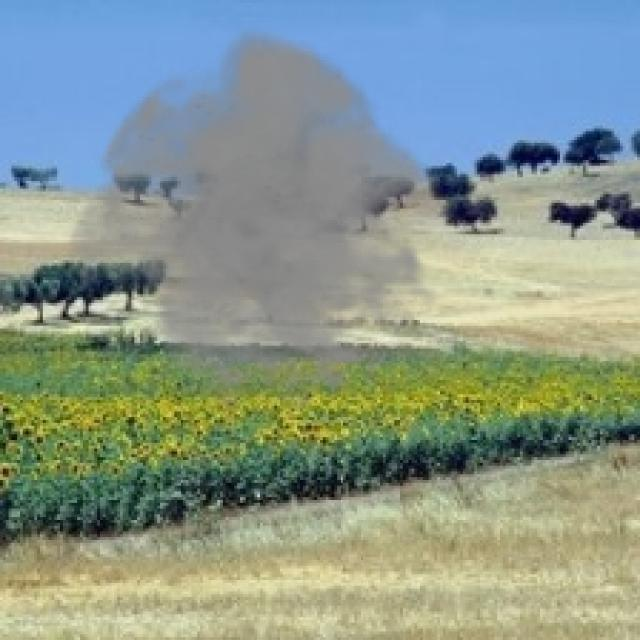Smoke: (60, 26, 463, 414)
